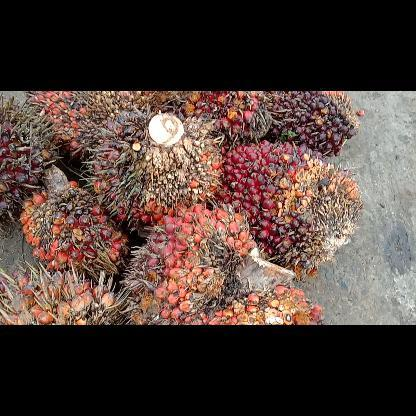TBS masak: (132, 204, 324, 324), (220, 142, 364, 272), (90, 112, 220, 223), (22, 167, 126, 279), (31, 92, 164, 154), (0, 266, 124, 324), (268, 91, 358, 155), (178, 91, 270, 145)
